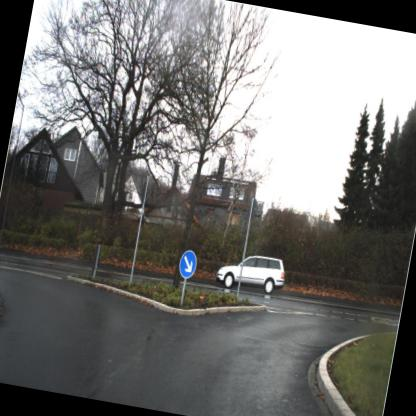mandatory: (176, 244, 202, 282)
